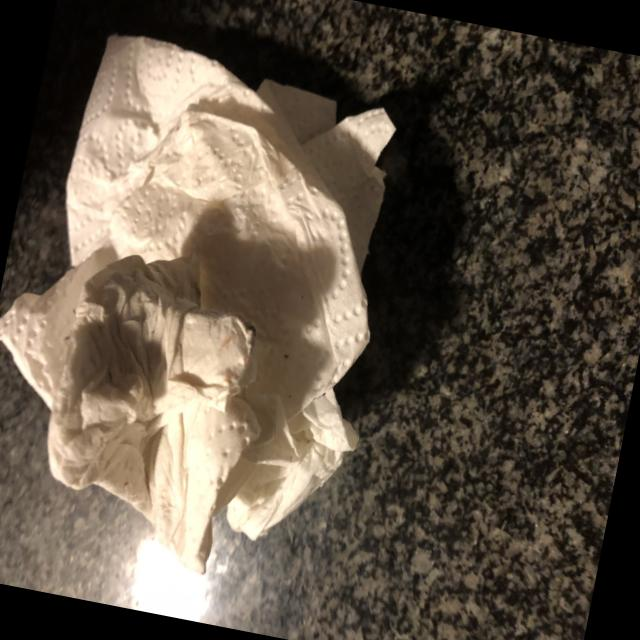organic waste: (0, 15, 428, 598)
